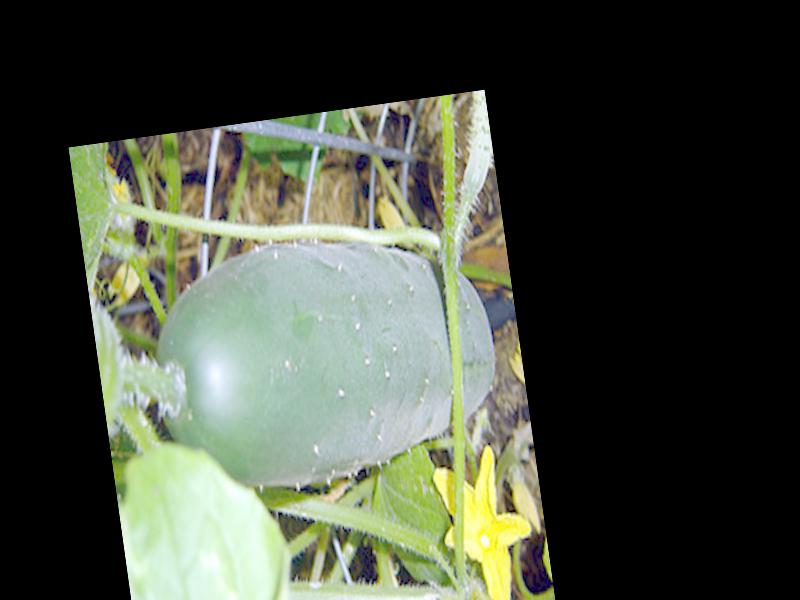Cucumber: (137, 218, 505, 503)
